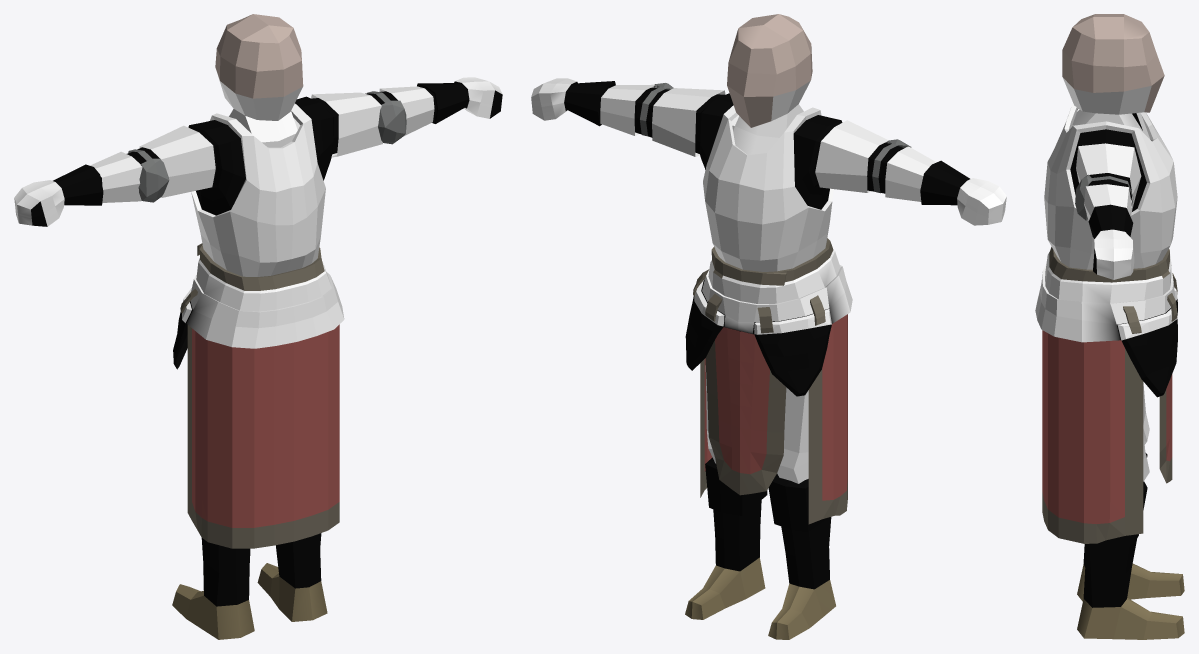
The model's file is SoldierRed(no weapons).fbx.
3 renders of one model, left to right at view 1: azimuth 30°, elevation 25°; view 2: azimuth 150°, elevation 25°; view 3: azimuth 270°, elevation 25°, orthographic. The views are drawn at different scales.
Parts seen in each view (by area): view 1: polySurface121, polySurface120, polySurface109, polySurface104, polySurface105, polySurface113, polySurface117, polySurface115, polySurface112, polySurface116, polySurface111, polySurface114 (+2 smaller); view 2: polySurface120, polySurface107, polySurface109, polySurface121, polySurface104, polySurface105, polySurface108, polySurface113, polySurface117, polySurface115, polySurface112, polySurface118 (+3 smaller); view 3: polySurface120, polySurface121, polySurface109, polySurface105, polySurface119, polySurface112, polySurface115, polySurface104, polySurface107, polySurface111, polySurface110, polySurface118.
Boxes of the visible parts, bbox=[...] form: polySurface121: bbox=[187, 324, 339, 548]; polySurface120: bbox=[100, 88, 436, 348]; polySurface109: bbox=[215, 14, 303, 147]; polySurface104: bbox=[172, 538, 254, 639]; polySurface105: bbox=[257, 533, 327, 621]; polySurface113: bbox=[14, 164, 103, 226]; polySurface117: bbox=[139, 125, 215, 197]; polySurface115: bbox=[311, 92, 382, 157]; polySurface112: bbox=[417, 77, 502, 123]; polySurface116: bbox=[90, 151, 142, 202]; polySurface111: bbox=[379, 86, 434, 136]; polySurface114: bbox=[128, 149, 169, 202]; polySurface120: bbox=[599, 87, 903, 334]; polySurface107: bbox=[705, 327, 786, 495]; polySurface109: bbox=[727, 14, 812, 155]; polySurface121: bbox=[700, 314, 847, 524]; polySurface104: bbox=[768, 473, 835, 639]; polySurface105: bbox=[685, 457, 767, 619]; polySurface108: bbox=[754, 295, 831, 396]; polySurface113: bbox=[920, 160, 1006, 225]; polySurface117: bbox=[815, 120, 889, 192]; polySurface115: bbox=[652, 88, 725, 156]; polySurface112: bbox=[531, 78, 615, 126]; polySurface118: bbox=[705, 331, 808, 483]; polySurface120: bbox=[1035, 102, 1177, 342]; polySurface121: bbox=[1042, 330, 1143, 543]; polySurface109: bbox=[1062, 14, 1164, 133]; polySurface105: bbox=[1077, 481, 1184, 639]; polySurface119: bbox=[1117, 293, 1177, 397]; polySurface112: bbox=[1088, 204, 1134, 279]; polySurface115: bbox=[1076, 143, 1141, 212]; polySurface104: bbox=[1077, 453, 1184, 601]; polySurface107: bbox=[1159, 374, 1172, 483]; polySurface111: bbox=[1084, 184, 1131, 220]; polySurface110: bbox=[1075, 174, 1133, 220]; polySurface118: bbox=[1143, 382, 1149, 481].
Bounding box in the file's own units: 1.46 × 1.73 × 0.3943.
